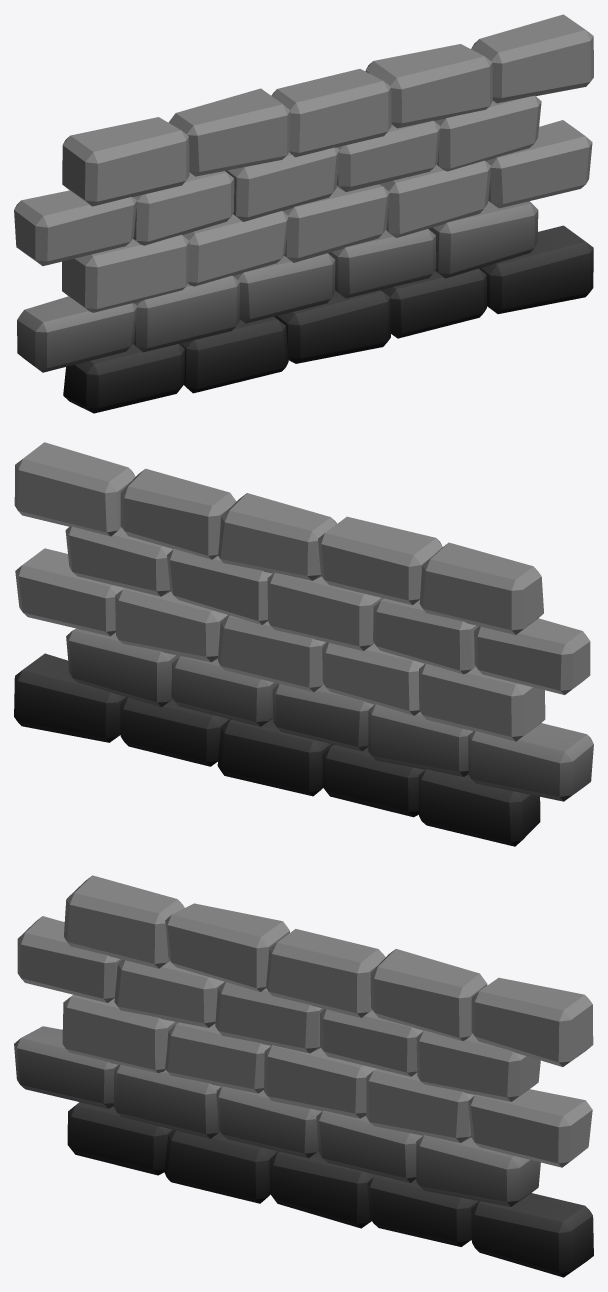
Rendered from BrickWall2x1_01_Mid.fbx.
The picture shows the model from 3 angles, top to bottom: view 1: azimuth 30°, elevation 25°; view 2: azimuth 150°, elevation 25°; view 3: azimuth 330°, elevation 25°; orthographic projection.
Visible parts, largest first — view 1: BrickWall2x1_01_Mid; view 2: BrickWall2x1_01_Mid; view 3: BrickWall2x1_01_Mid.
Boxes of the visible parts, x1,y1,x2,y2 form: BrickWall2x1_01_Mid: (14, 14, 593, 413); BrickWall2x1_01_Mid: (14, 442, 593, 846); BrickWall2x1_01_Mid: (14, 875, 593, 1277).
Size of the model in its own units: 221 by 101 by 21.84.
